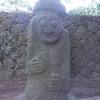Stone Statue: (18, 1, 77, 100)
